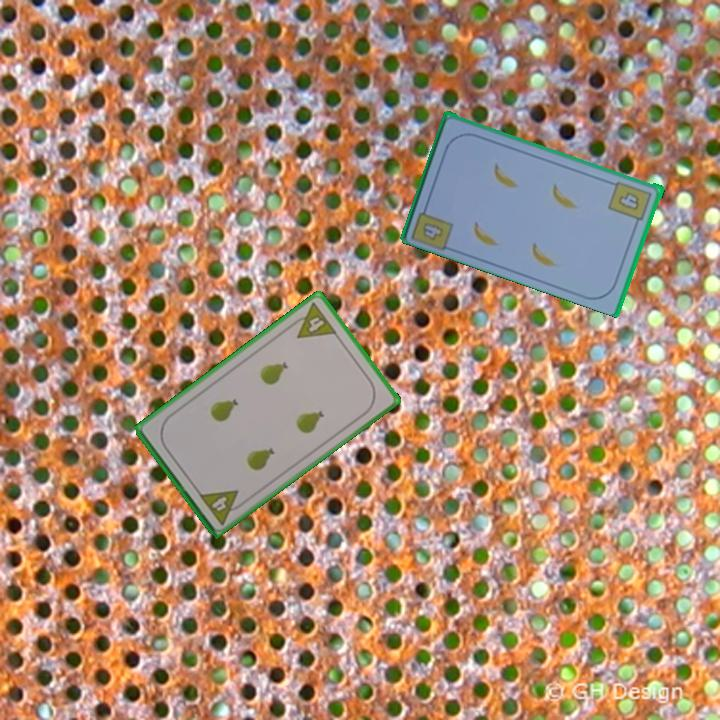4b: (408, 199, 457, 252), (606, 177, 655, 228)
4p: (286, 299, 340, 341), (195, 486, 248, 528)
